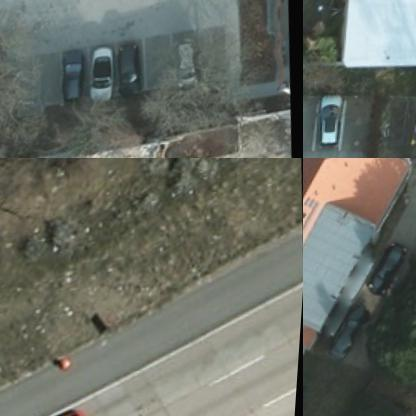car: (358, 246, 412, 304), (328, 308, 376, 367), (314, 97, 350, 155), (83, 50, 114, 108), (56, 57, 88, 110), (113, 46, 142, 104), (168, 43, 199, 96)
